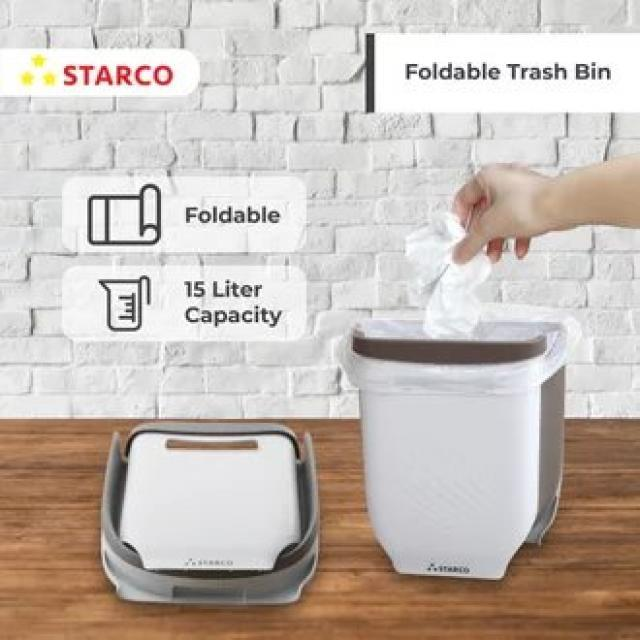Dumpster: (343, 307, 574, 582)
